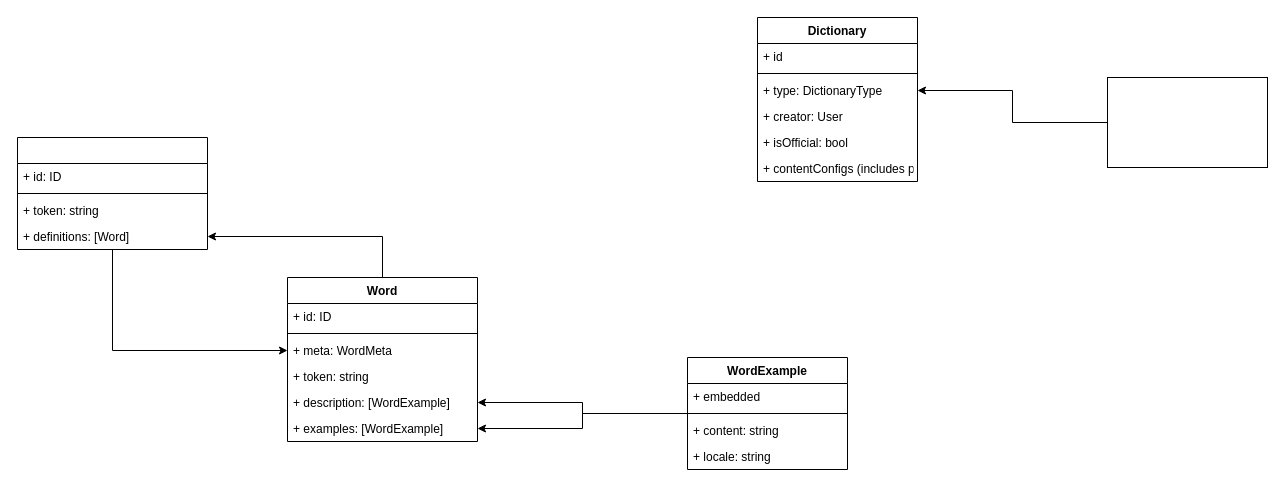
This 1285x490 diagram has some shape labels left out. Each missing label, with the box of its shape:
DictionaryType:Enum BOOK LIST: (1106, 76, 1268, 168)
WordMeta: (16, 136, 208, 250)
